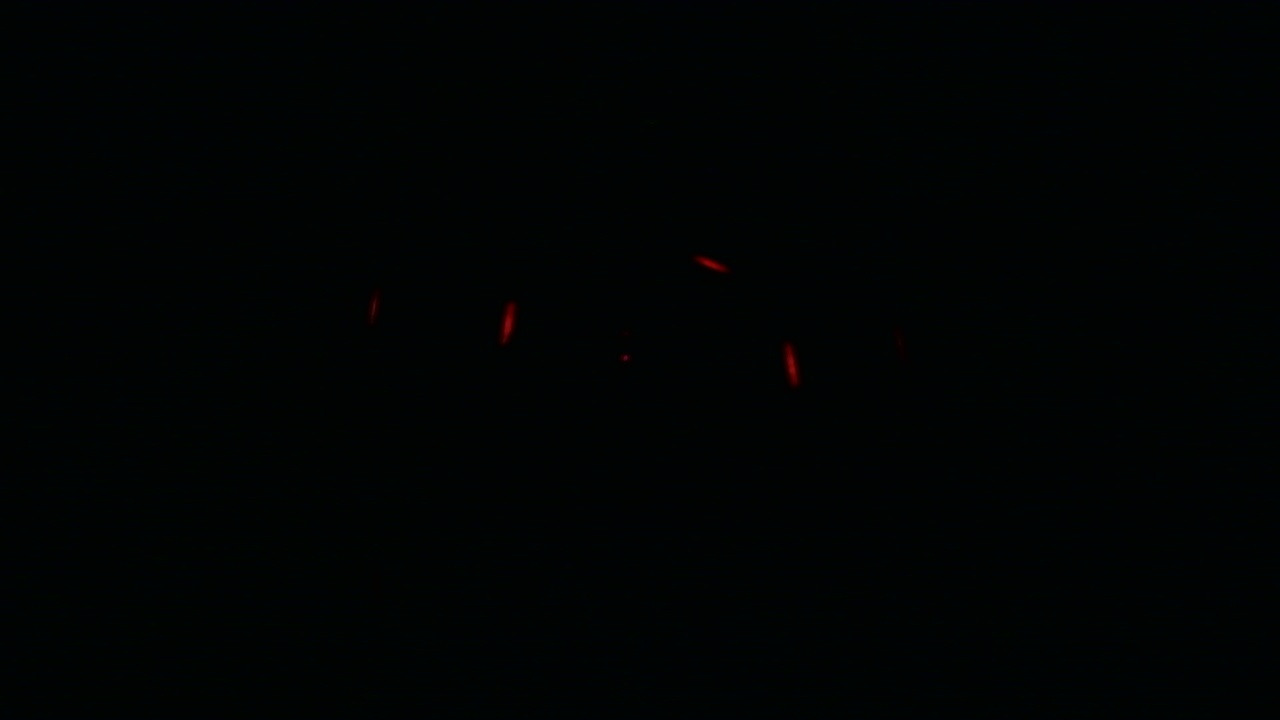notpair2: (498, 299, 803, 391)
pair2: (369, 293, 517, 345)
